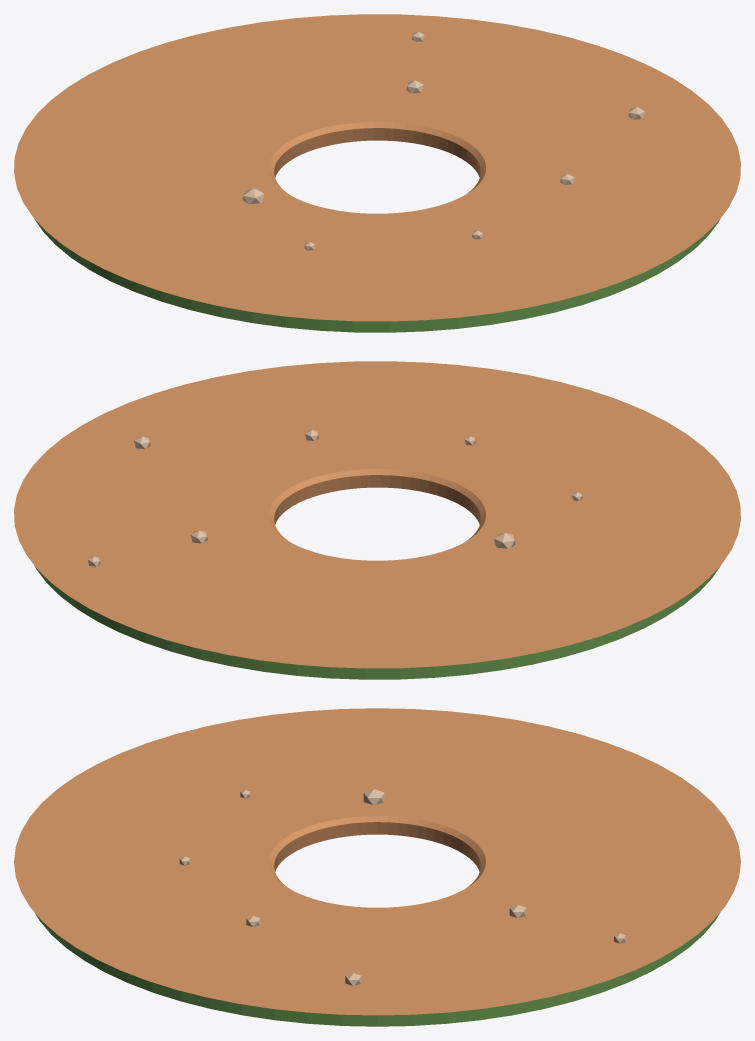
File: goo_jar_deck_4@garden.fbx
The picture shows the model from 3 angles, top to bottom: view 1: azimuth 30°, elevation 25°; view 2: azimuth 150°, elevation 25°; view 3: azimuth 270°, elevation 25°; orthographic projection.
Parts seen in each view (by area): view 1: goo_jar_deck_4; view 2: goo_jar_deck_4; view 3: goo_jar_deck_4.
Boxes of the visible parts, box(x1,y1,x2,y2) form: goo_jar_deck_4: box(14, 14, 740, 332); goo_jar_deck_4: box(14, 361, 740, 679); goo_jar_deck_4: box(14, 708, 740, 1026).
Size of the model in its own units: 42.2 by 1.78 by 42.2.
